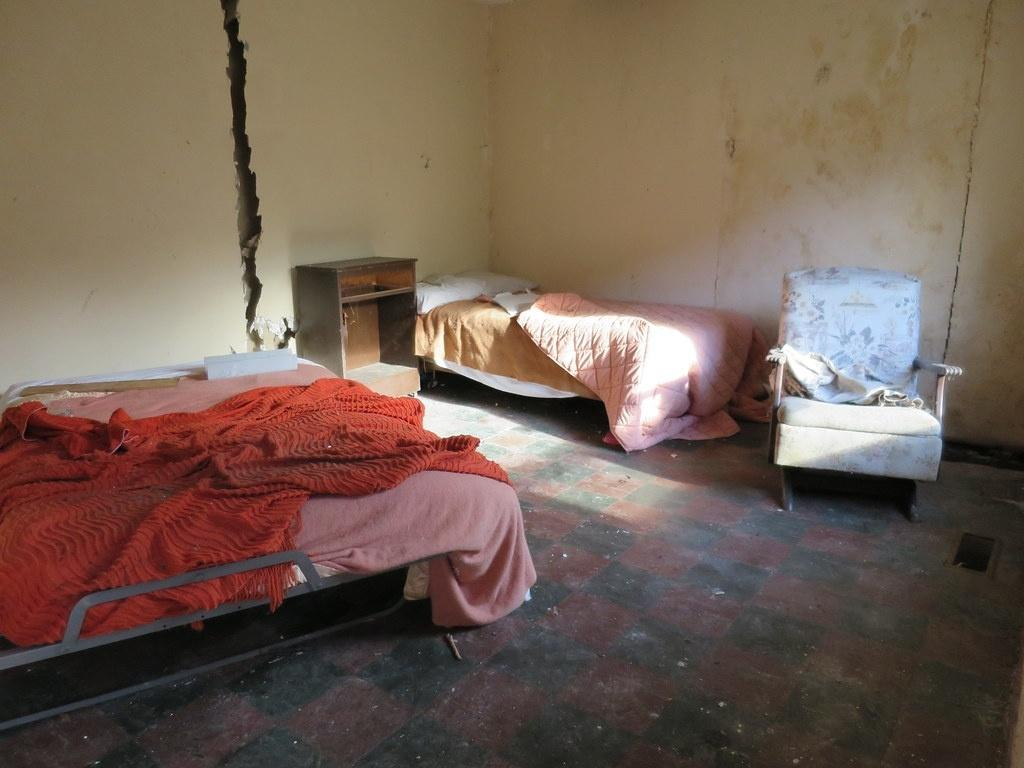Crack: (208, 0, 296, 354), (936, 0, 1022, 362)
